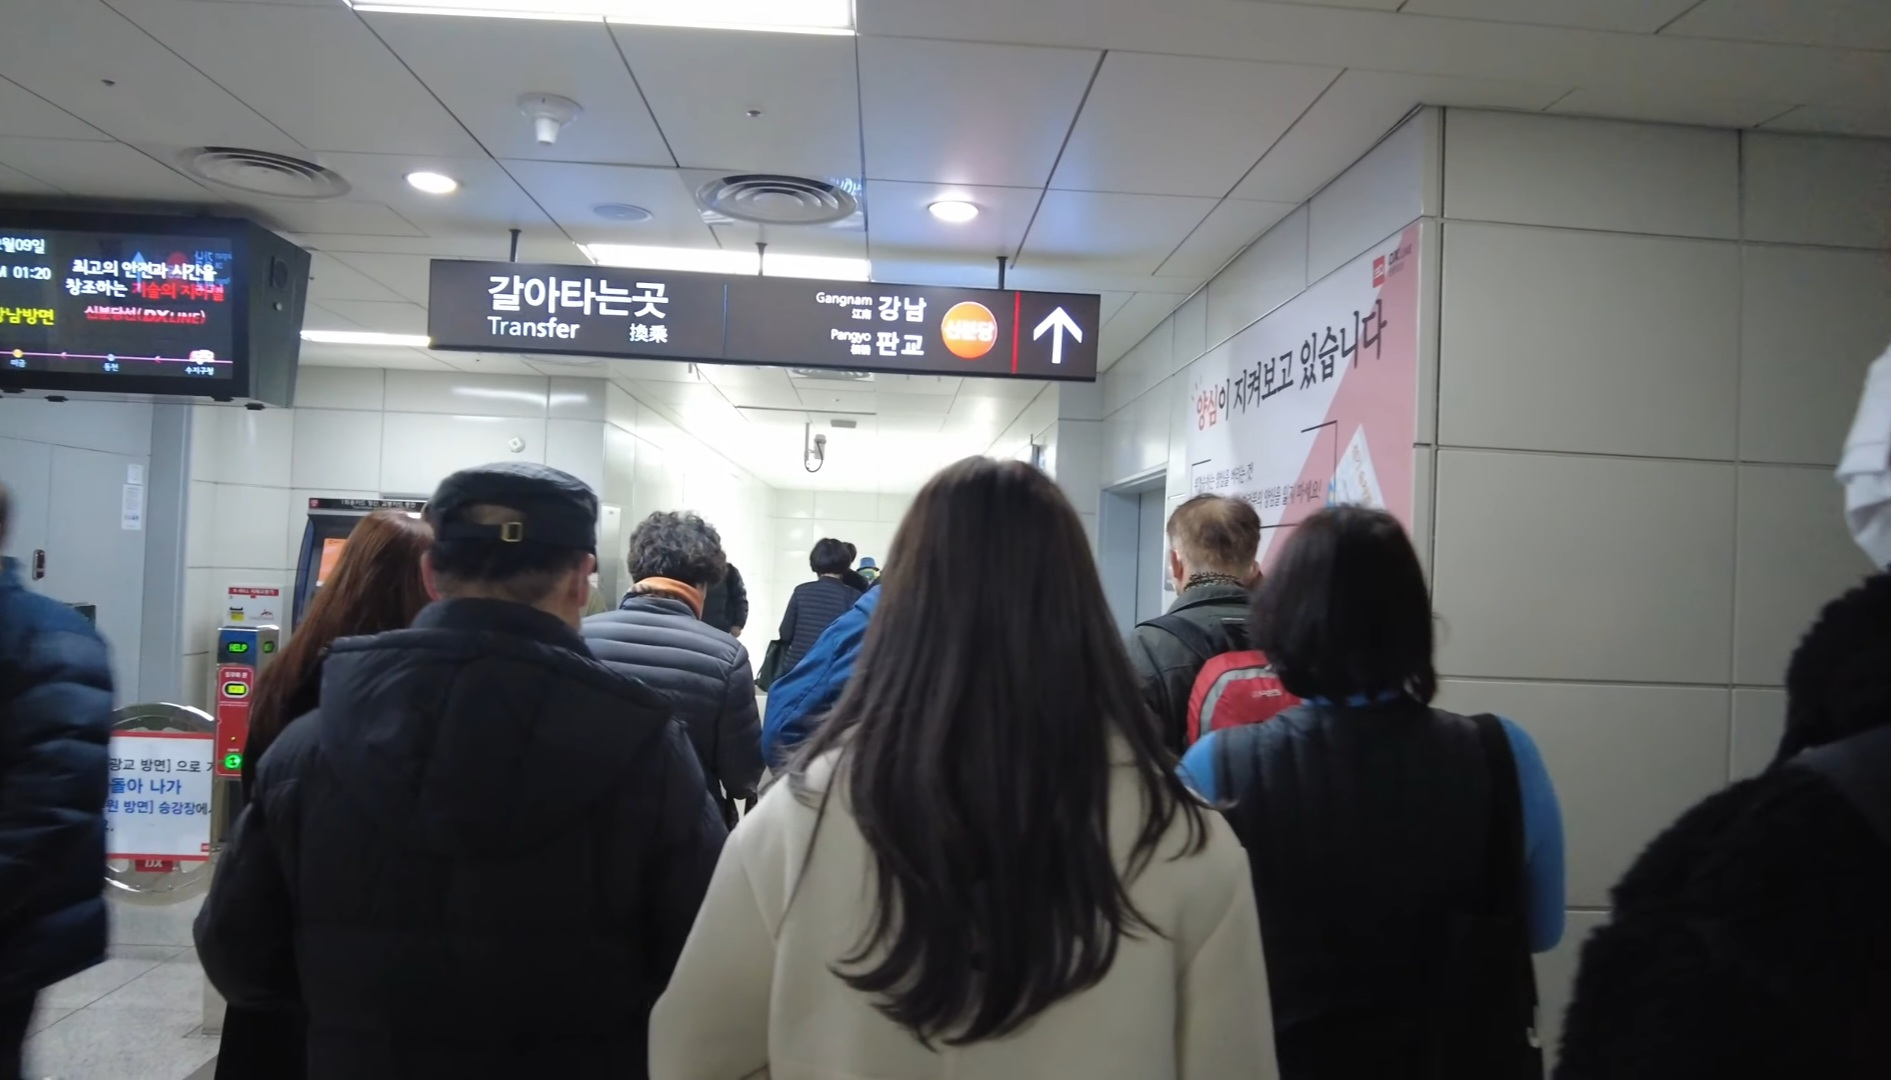signBoard: (423, 249, 1109, 388)
